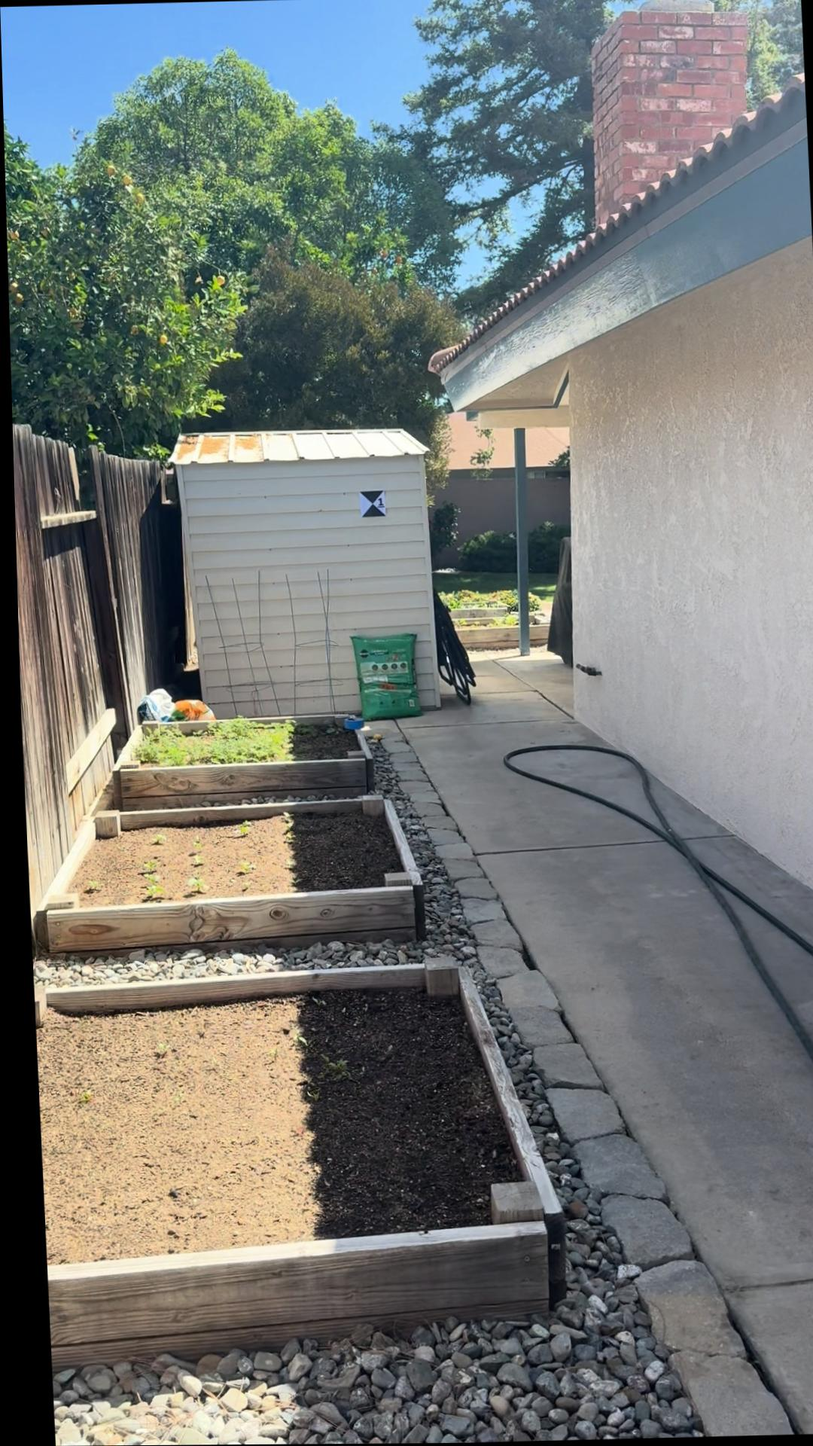target1: (357, 488, 391, 517)
